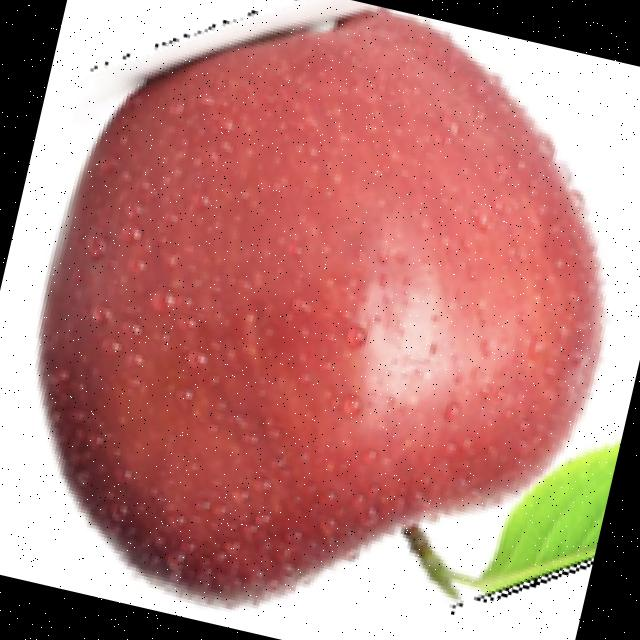apple: (32, 0, 621, 617)
